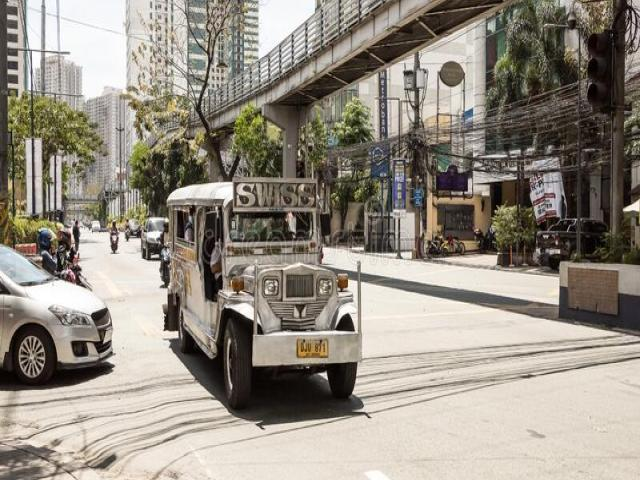jeepney: (156, 174, 371, 412)
